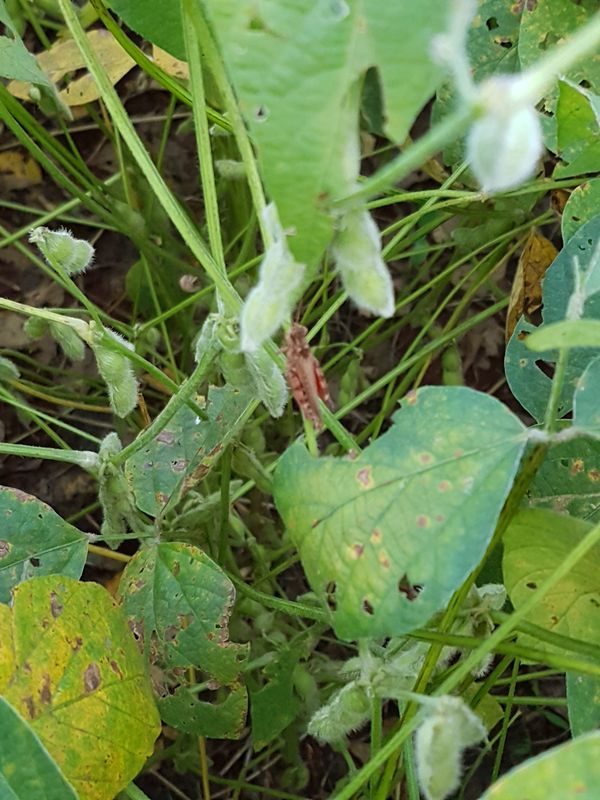Rhammatocerus_schistocercoides: (256, 292, 353, 443)
